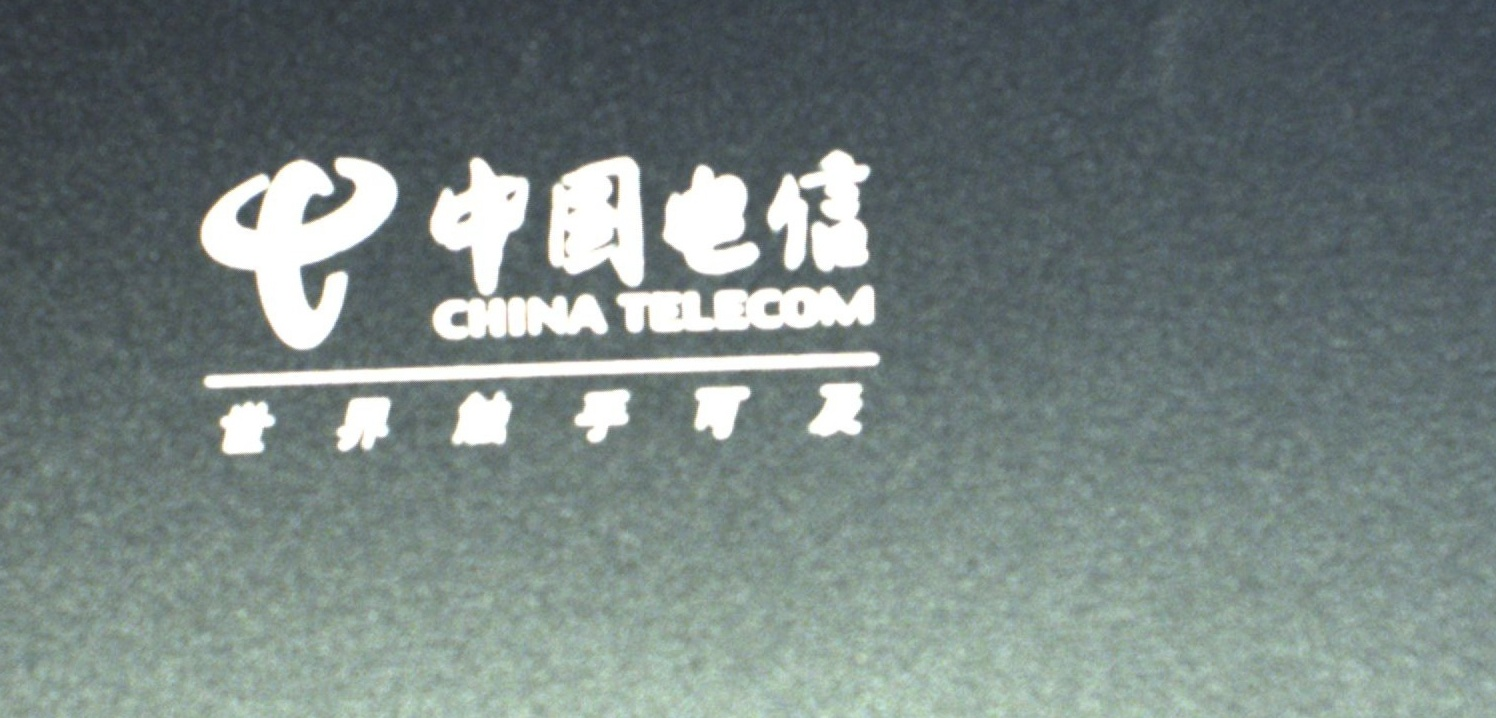AB_ChinaTelecom: (185, 145, 881, 457)
